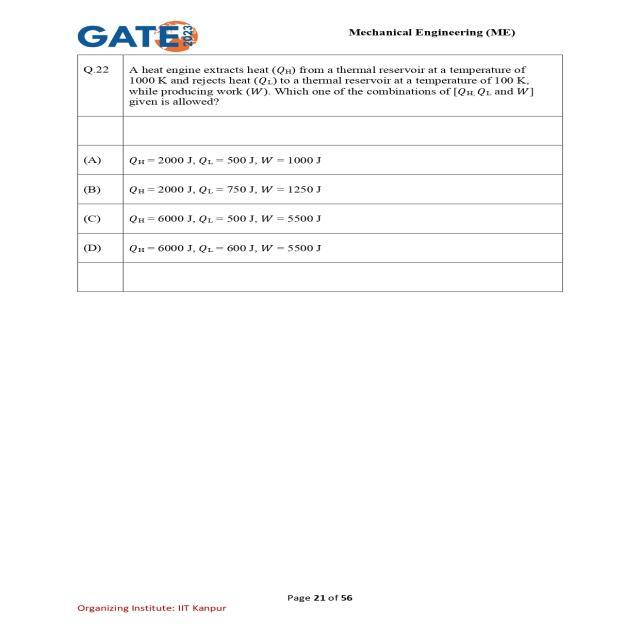Answer_Block: (77, 148, 560, 264)
Question_Answer_Block: (76, 57, 562, 262)
Question_Block: (79, 59, 562, 120)
Question_Paper_Area: (77, 53, 564, 291)
